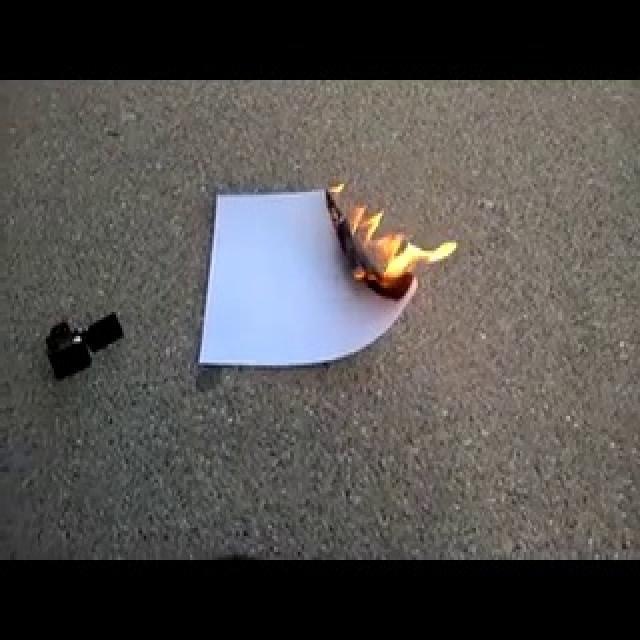fire: (325, 173, 455, 312)
